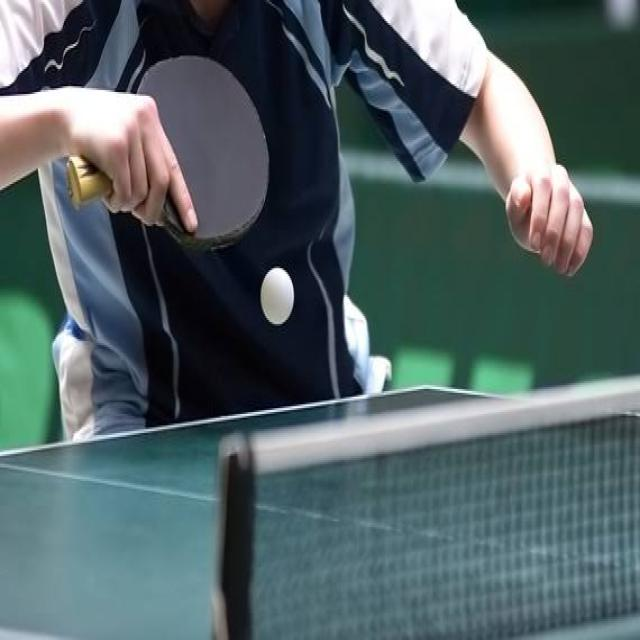TT Net: (213, 374, 639, 638)
TT Racket: (106, 30, 295, 279)
TT Table: (2, 382, 639, 638)
